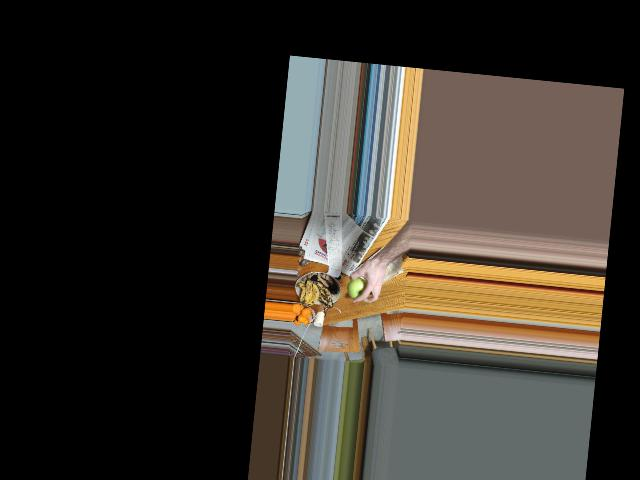apple: (347, 272, 372, 304)
